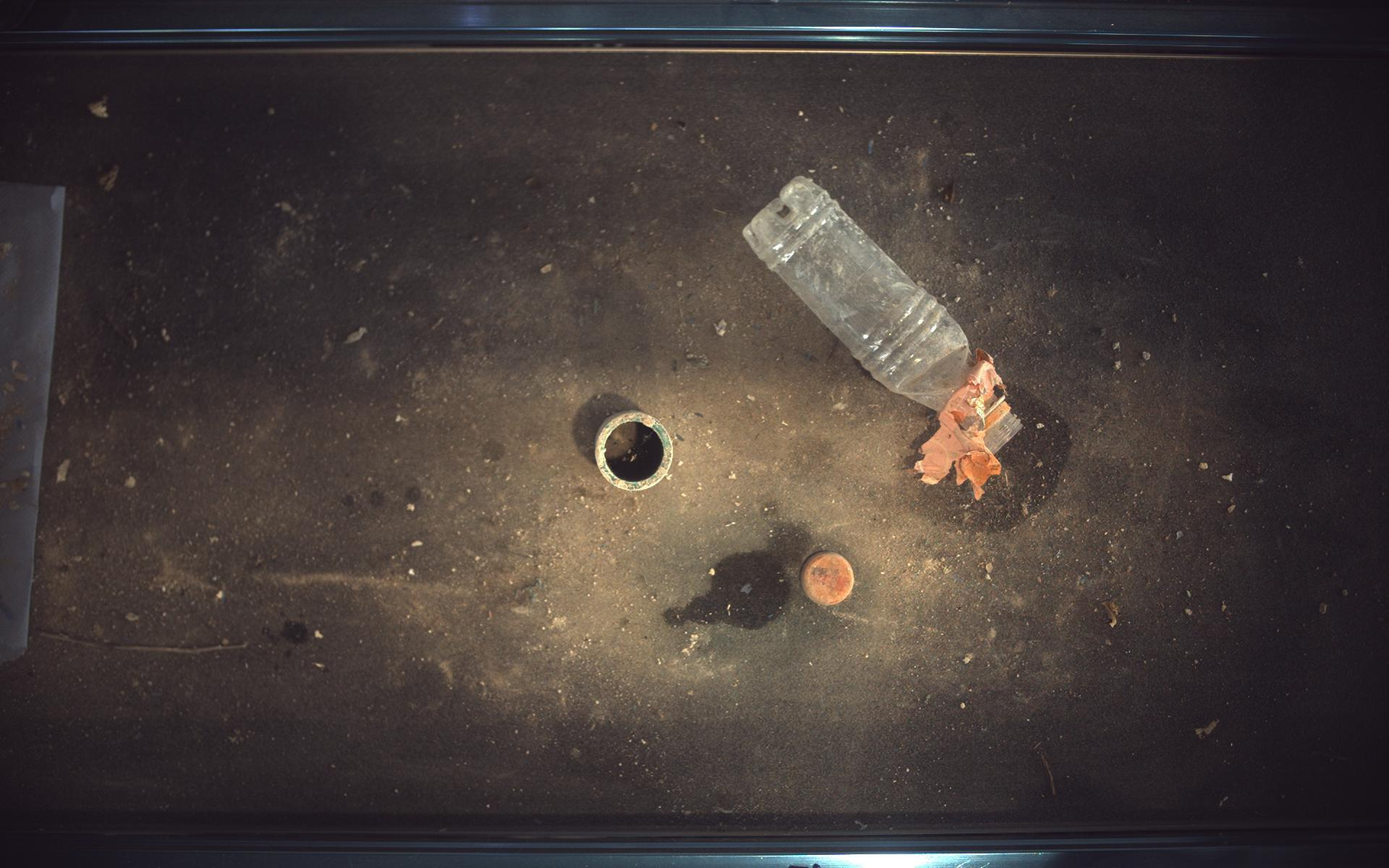general_w: (744, 176, 1024, 499), (802, 551, 856, 607)
pipes: (595, 410, 675, 492)
